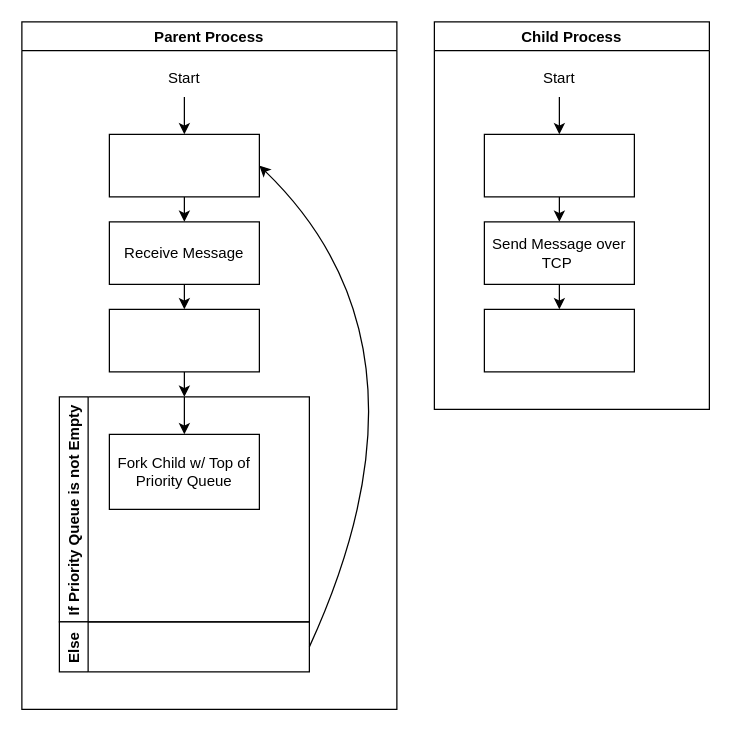
Image size: 731x731. Some labels were removed from this diagram. Each missing label, with the centre of its shape:
Add to Priority Queue: (x=183, y=340)
Exit (0): (x=558, y=340)
Process Request: (x=558, y=165)
Wait for Message: (x=183, y=165)
